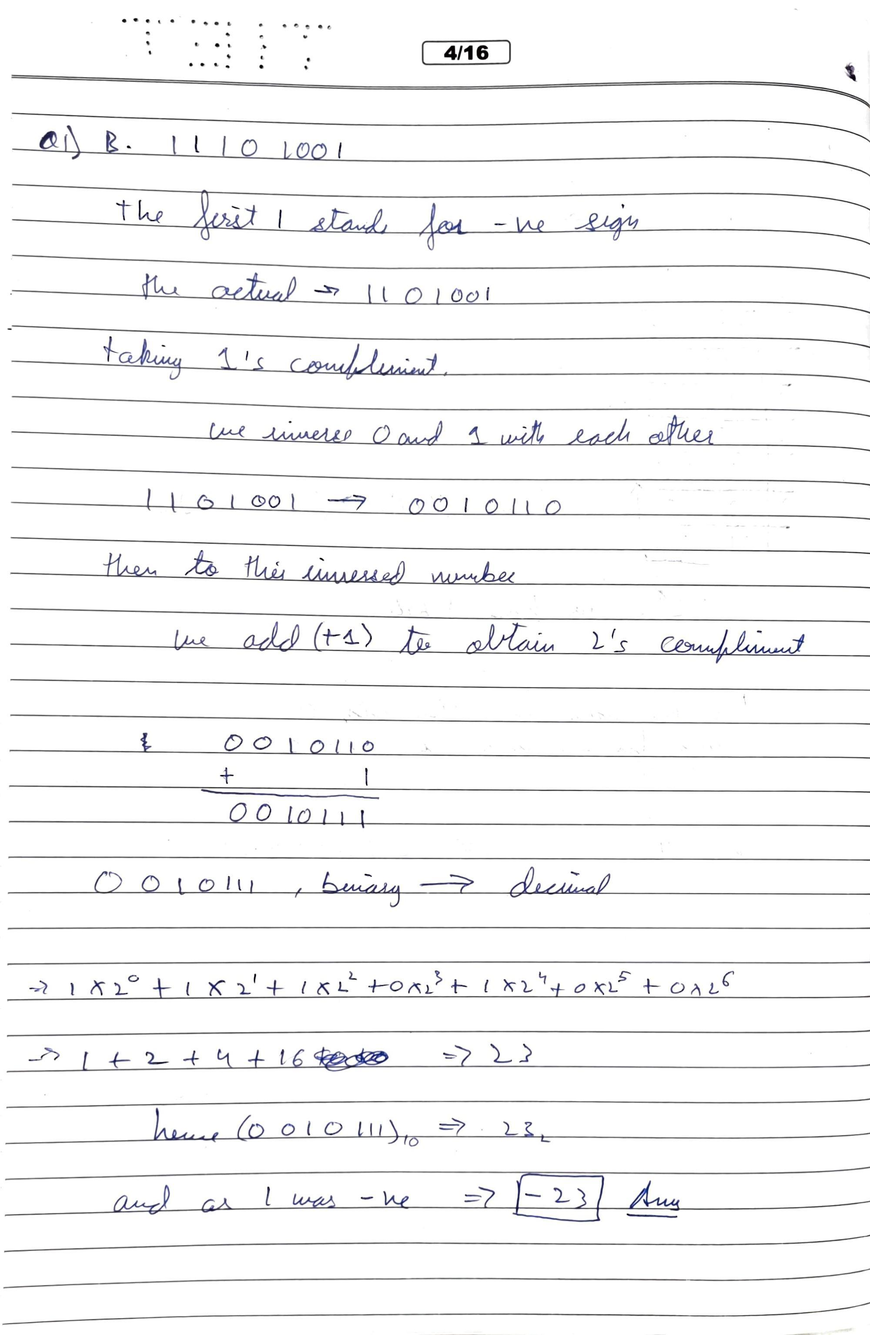cuttings: (312, 1043, 396, 1078), (136, 729, 155, 757)
